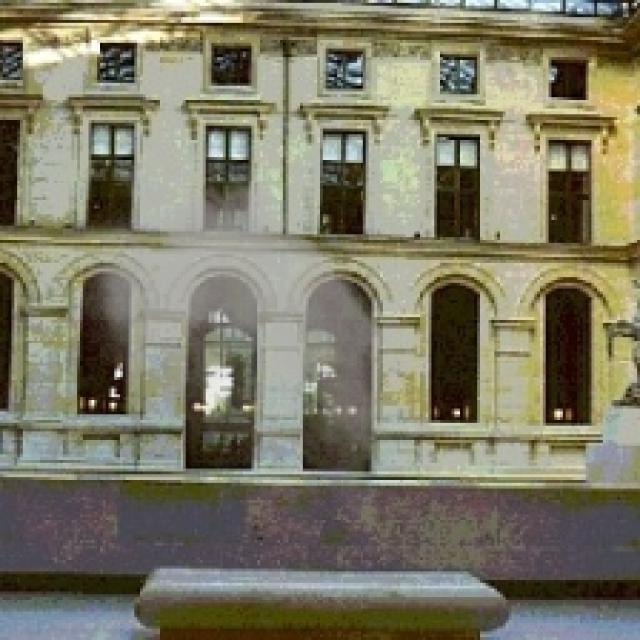smoke: (57, 151, 440, 543)
